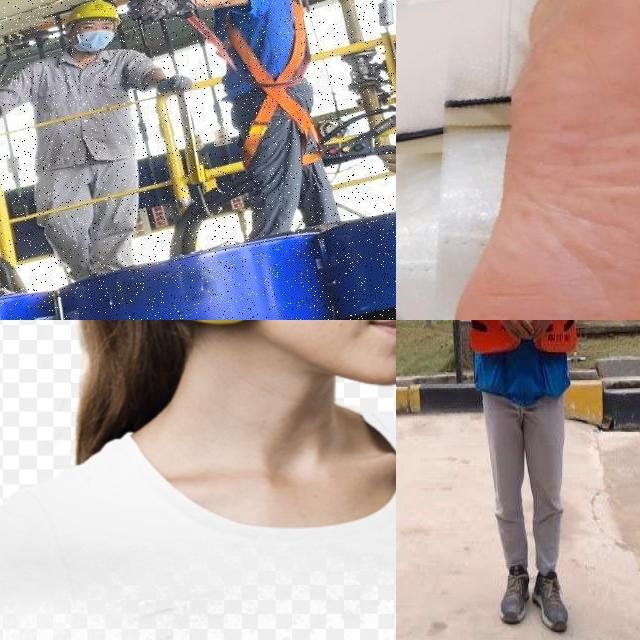Barefoots: (453, 0, 640, 320)
Ear-protection: (109, 320, 396, 406)
Harness: (206, 0, 339, 178)
boots: (530, 567, 567, 630), (498, 565, 530, 628)
person: (409, 320, 636, 640)
vest: (470, 320, 577, 397)
